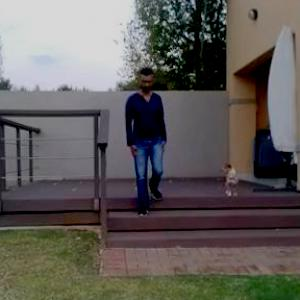follow: (125, 66, 164, 218)
